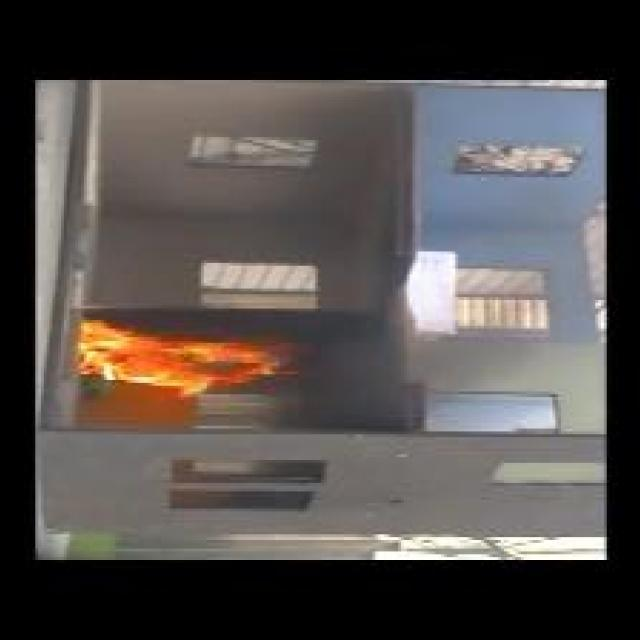Fire: (74, 318, 300, 396)
